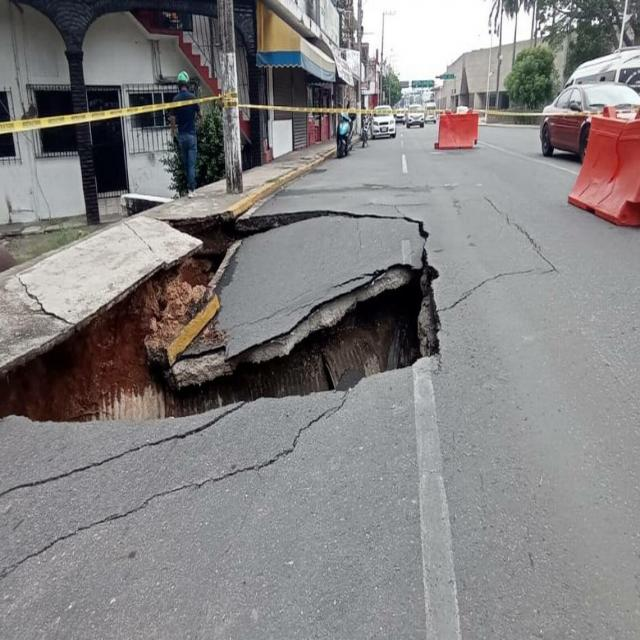Pothole: (29, 158, 482, 478)
